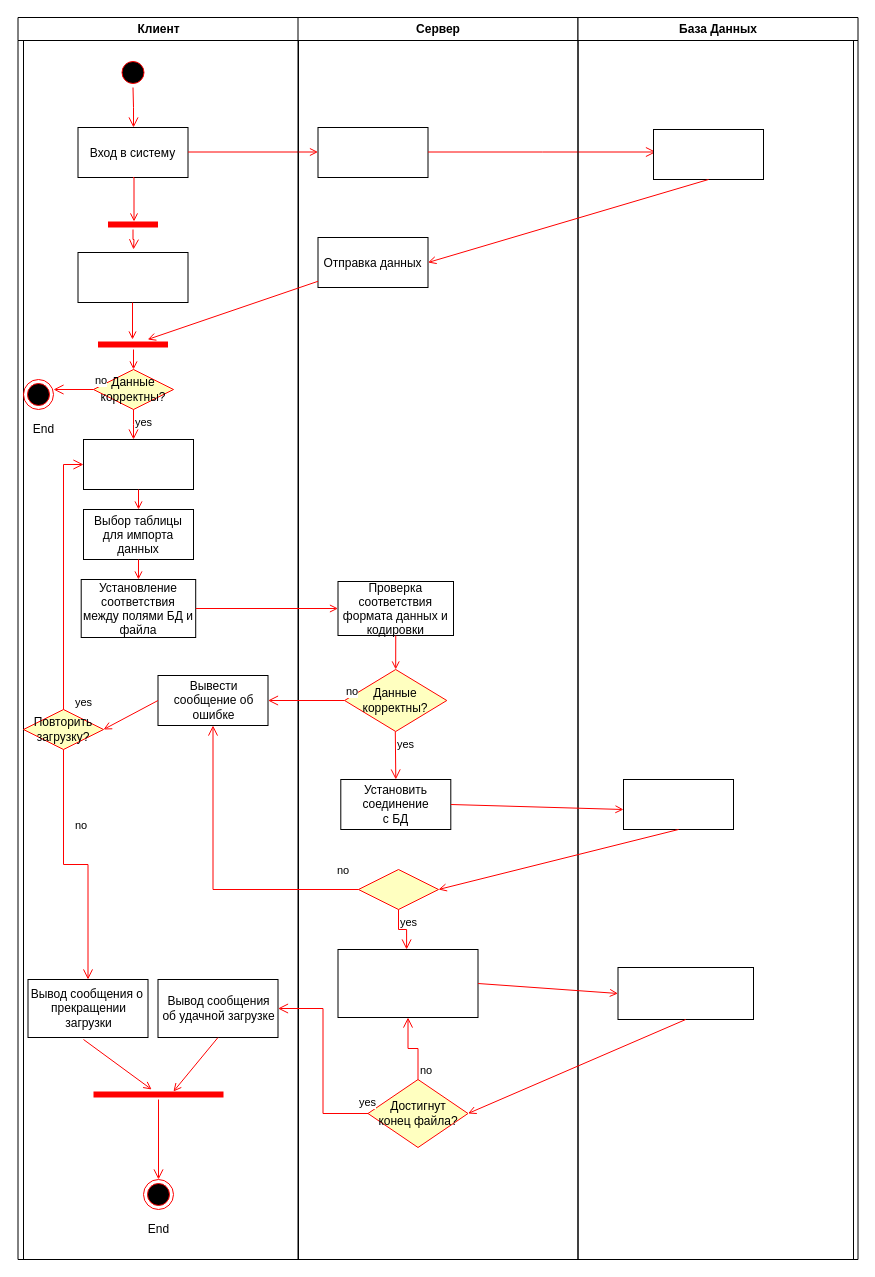
The diagram is 875 pixels wide and 1277 high, and some of its shapes have lost their labels. Here are the shapes that lost their labels. From the top down, the centre of each, then its label:
the point at 372,152: Запрос в базу данных
the point at 708,154: Проверка корректности логина/пароля
the point at 132,277: Ожидание
the point at 138,464: Выбор файла для экспорта данных
the point at 678,804: Получение отклика от СУБД
the point at 398,889: Соединение установлено?
the point at 407,983: Выполнение загрузки из файла, импорт в БД
the point at 685,993: Выполнение запроса на добавление данных
